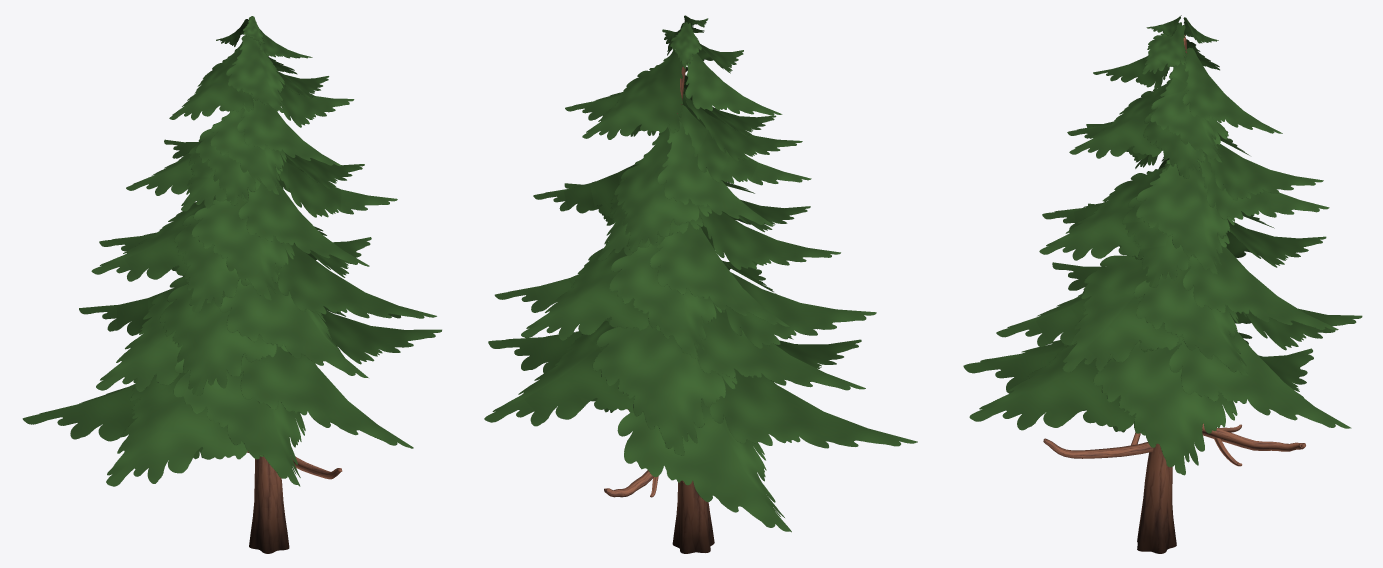
The model's file is Pine_1.glb.
3 views of the same model, side by side, from view 1: azimuth 30°, elevation 25°; view 2: azimuth 150°, elevation 25°; view 3: azimuth 270°, elevation 25° (orthographic). The views are drawn at different scales.
Parts seen in each view (by area): view 1: Pine_2; view 2: Pine_2; view 3: Pine_2.
Boxes of the visible parts, x1,y1,x2,y2 form: Pine_2: (22,16,441,553); Pine_2: (484,15,917,553); Pine_2: (963,15,1362,553).
Bounding box in the file's own units: 5.73 × 7.38 × 5.22.
Materials: 2 (2 with a texture image).
